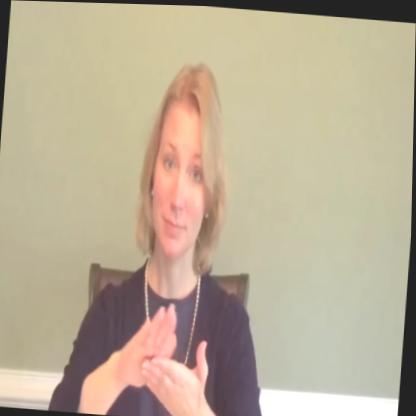NiceToMeetYou: (55, 52, 290, 416)
